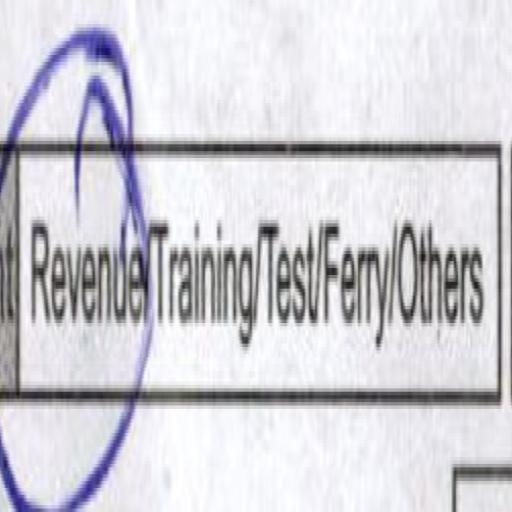check: (13, 49, 145, 498)
